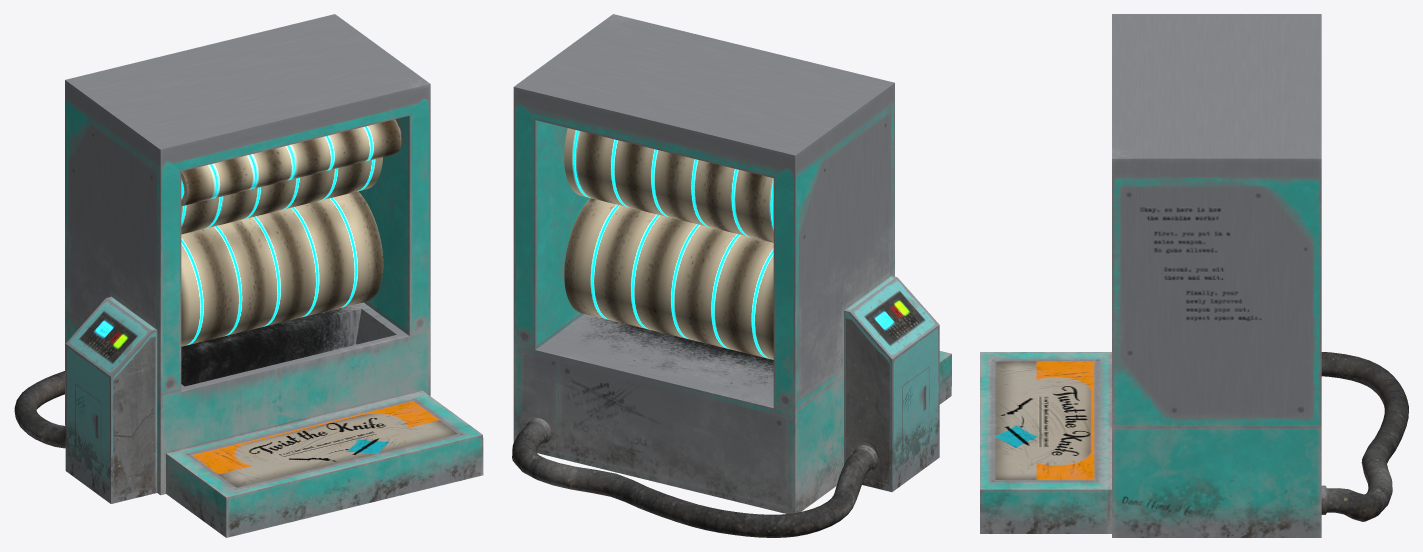
File: twist_the_knife.glb
3 views of the same model, side by side, from view 1: azimuth 30°, elevation 25°; view 2: azimuth 150°, elevation 25°; view 3: azimuth 270°, elevation 25° (orthographic). The views are drawn at different scales.
Parts seen in each view (by area): view 1: pCube1, pCylinder2, pCube2, pCylinder3, pCylinder1, extrudedSurface1; view 2: pCube1, pCylinder2, pCube2, pCylinder1, extrudedSurface1; view 3: pCube1, extrudedSurface1.
Part boxes in pixels (left/top/right/bottom): pCube1: left=65, top=14, right=483, bottom=537; pCylinder2: left=181, top=191, right=383, bottom=346; pCube2: left=65, top=296, right=157, bottom=503; pCylinder3: left=181, top=119, right=401, bottom=206; pCylinder1: left=181, top=157, right=382, bottom=234; extrudedSurface1: left=14, top=371, right=65, bottom=448; pCube1: left=513, top=14, right=951, bottom=513; pCylinder2: left=564, top=198, right=773, bottom=359; pCube2: left=844, top=276, right=939, bottom=491; pCylinder1: left=564, top=128, right=773, bottom=242; extrudedSurface1: left=512, top=418, right=878, bottom=537; pCube1: left=980, top=14, right=1321, bottom=537; extrudedSurface1: left=1321, top=352, right=1408, bottom=521.
Size of the model in its own units: 31.97 by 33.38 by 34.21.
1 material, 1 textured.
